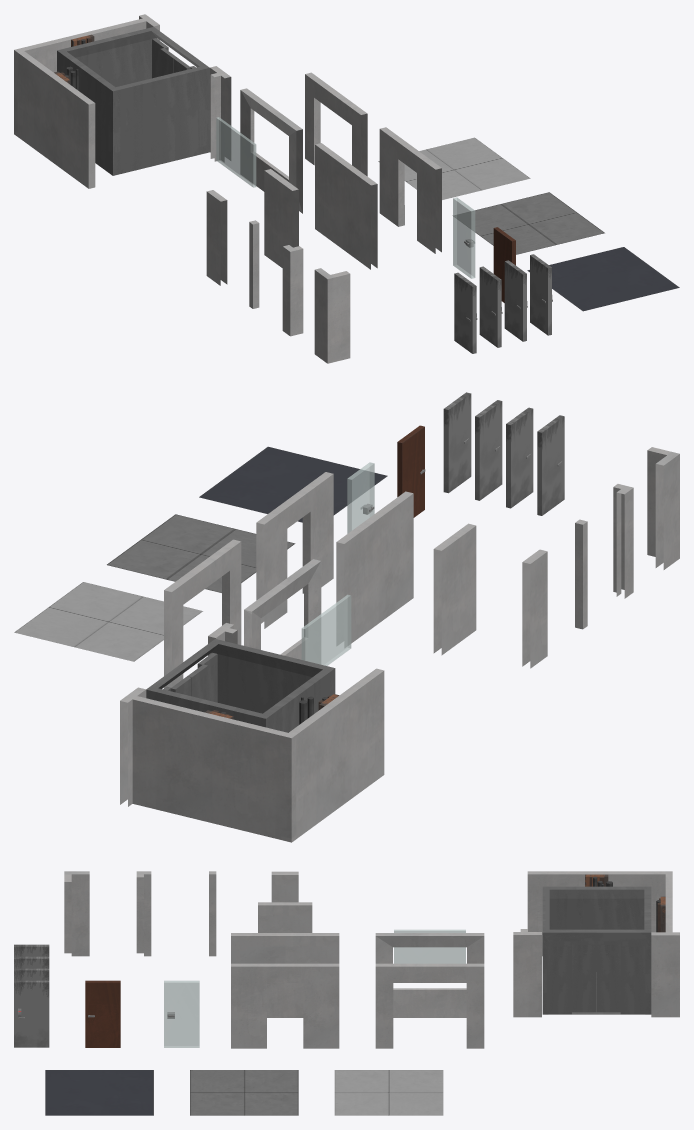
The model's file is models_1k.glb.
3 renders of one model, top to bottom at view 1: azimuth 30°, elevation 25°; view 2: azimuth 150°, elevation 25°; view 3: azimuth 270°, elevation 25°, orthographic. The views are drawn at different scales.
Visible parts, largest first — view 1: Elevator, Elevator_shaft, Wall_long, Floor_3, Floor_2, Wall_door, Floor_1, Wall_window, Corner_Large, Wall_Double_door, Wall_medium, Corner_Medium (+10 smaller); view 2: Elevator_shaft, Elevator, Wall_long, Floor_1, Floor_3, Wall_door, Floor_2, Wall_medium, Wall_Double_door, Wall_window, Corner_Large, Wall_small (+10 smaller); view 3: Elevator_shaft, Elevator, Wall_door, Floor_1, Floor_2, Floor_3, Wall_Double_door, Wall_long, Wall_window, Elevator_door, Elevator_door2, Door (+11 smaller).
Part boxes in pixels (x1,y1,x2,y2): Elevator: [57, 27, 209, 175]; Elevator_shaft: [14, 14, 231, 188]; Wall_long: [315, 143, 377, 269]; Floor_3: [527, 247, 679, 311]; Floor_2: [452, 192, 604, 254]; Wall_door: [379, 127, 441, 253]; Floor_1: [378, 137, 530, 199]; Wall_window: [240, 88, 302, 213]; Corner_Large: [314, 268, 350, 363]; Wall_Double_door: [305, 72, 367, 176]; Wall_medium: [264, 169, 298, 267]; Corner_Medium: [282, 245, 303, 336]; Elevator_shaft: [120, 623, 384, 842]; Elevator: [146, 639, 335, 732]; Wall_long: [336, 491, 413, 647]; Floor_1: [14, 582, 202, 661]; Floor_3: [199, 446, 387, 522]; Wall_door: [256, 472, 333, 628]; Floor_2: [107, 514, 295, 592]; Wall_medium: [433, 523, 476, 655]; Wall_Double_door: [164, 539, 241, 687]; Wall_window: [244, 559, 321, 663]; Corner_Large: [647, 447, 679, 569]; Wall_small: [522, 549, 547, 668]; Elevator_shaft: [513, 871, 679, 1017]; Elevator: [542, 886, 651, 1014]; Wall_door: [231, 963, 339, 1048]; Floor_1: [334, 1070, 443, 1115]; Floor_2: [190, 1070, 298, 1115]; Floor_3: [45, 1070, 153, 1115]; Wall_Double_door: [375, 963, 484, 1048]; Wall_long: [231, 933, 339, 1017]; Wall_window: [375, 933, 484, 1017]; Elevator_door: [596, 941, 645, 1014]; Elevator_door2: [548, 941, 595, 1014]; Door: [85, 980, 120, 1047].
Size of the model in its own units: 1060 by 252 by 1839.
Materials: 3 (3 with a texture image).
